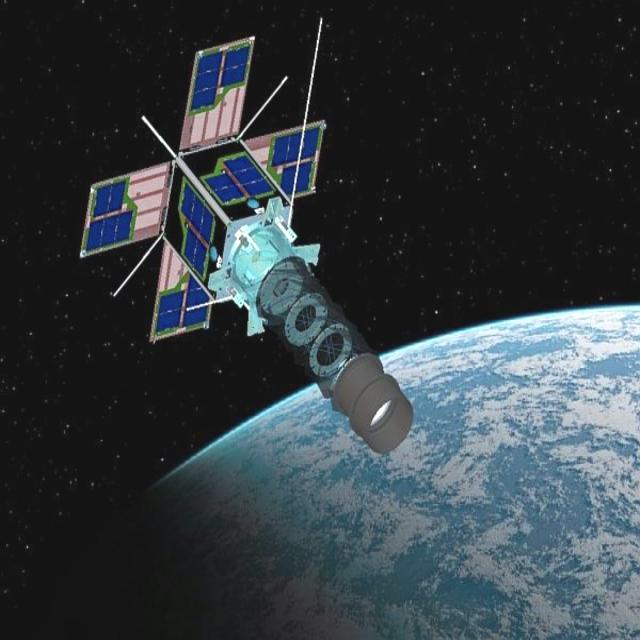medium_debris: (72, 17, 417, 478)
